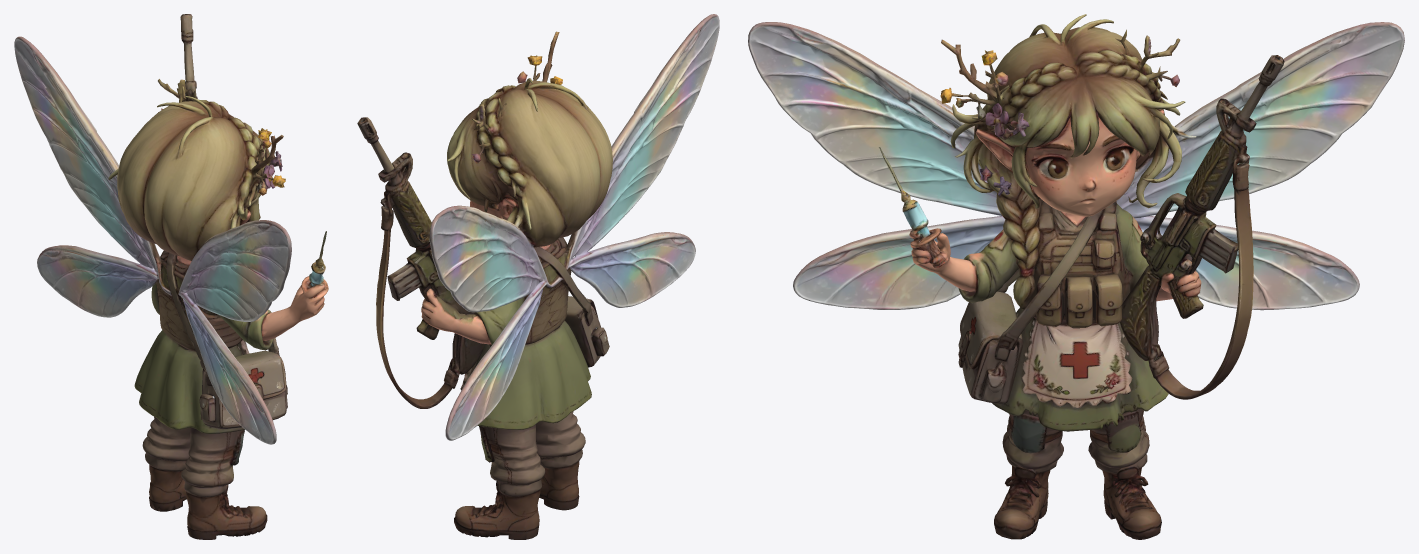
The model's file is fairy medic.glb.
3 renders of one model, left to right at view 1: azimuth 30°, elevation 25°; view 2: azimuth 150°, elevation 25°; view 3: azimuth 270°, elevation 25°, orthographic. The views are drawn at different scales.
Parts seen in each view (by area): view 1: tripo_node_14bea93c-8d8e-4b9e-a02d-bddea3d1a973; view 2: tripo_node_14bea93c-8d8e-4b9e-a02d-bddea3d1a973; view 3: tripo_node_14bea93c-8d8e-4b9e-a02d-bddea3d1a973.
Boxes of the visible parts, box(x1,y1,x2,y2) form: tripo_node_14bea93c-8d8e-4b9e-a02d-bddea3d1a973: box(14, 14, 328, 539); tripo_node_14bea93c-8d8e-4b9e-a02d-bddea3d1a973: box(357, 14, 719, 539); tripo_node_14bea93c-8d8e-4b9e-a02d-bddea3d1a973: box(748, 14, 1404, 539).
Bounding box in the file's own units: 0.3089 × 0.8501 × 1.
1 material, 1 textured.
